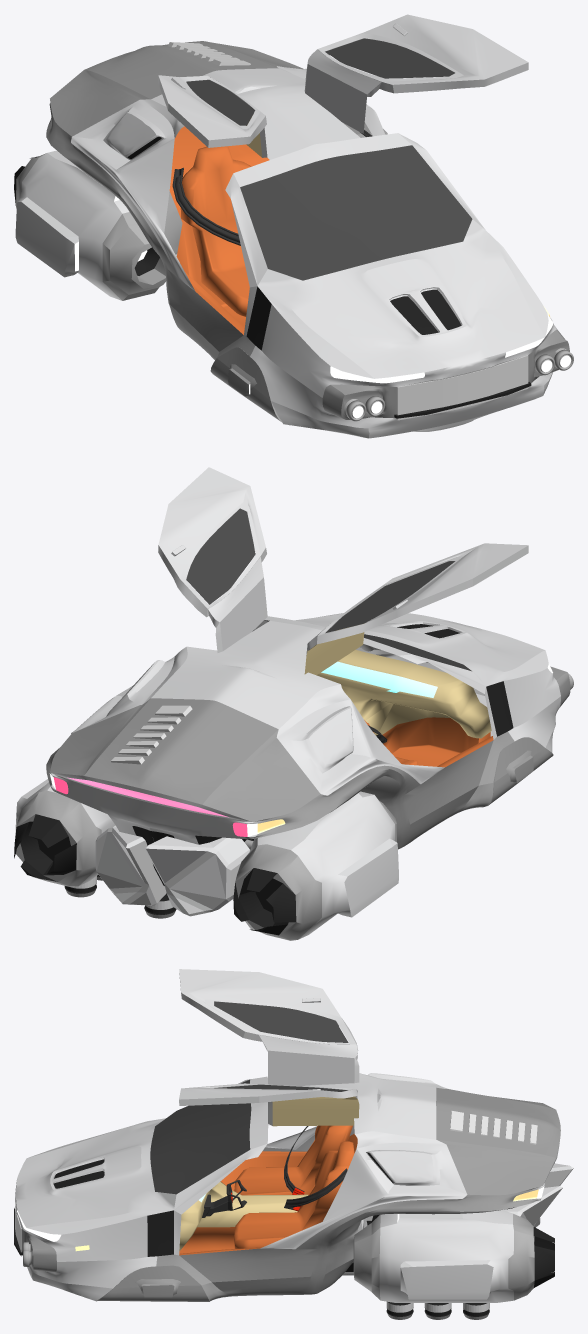
The model's file is SUV.glb.
3 views of the same model, one above another, from view 1: azimuth 30°, elevation 25°; view 2: azimuth 150°, elevation 25°; view 3: azimuth 270°, elevation 25° (orthographic). The views are drawn at different scales.
Parts seen in each view (by area): view 1: chasis, windshield, vehicle chasis-hull, right rear thruster, right door, SEATS, left door, front grill1, dashboard interior, fron thruster panels, lights front, Plane (+2 smaller); view 2: chasis, vehicle chasis-hull, right rear thruster, right door, dashboard interior, left door, left thrusters, tank 2, tank 1, Plane, fron thruster panels, windshield; view 3: chasis, vehicle chasis-hull, left thrusters, left door, SEATS, windshield, dashboard interior, right door, fron thruster panel, thrusters lower, Plane, tank 1 (+2 smaller).
Boxes of the visible parts, x1,y1,x2,y2 form: chasis: (50,66,557,438); windshield: (240,145,472,280); vehicle chasis-hull: (46,41,569,419); right rear thruster: (14,150,166,300); right door: (304,14,528,133); SEATS: (172,130,372,316); left door: (158,75,267,157); front grill1: (397,355,528,420); dashboard interior: (169,126,269,334); fron thruster panels: (210,347,289,425); lights front: (330,314,552,383); Plane: (168,42,250,65); chasis: (50,613,560,844); vehicle chasis-hull: (46,624,570,885); right rear thruster: (233,791,398,940); right door: (158,467,267,652); dashboard interior: (316,649,493,767); left door: (304,543,528,675); left thrusters: (14,779,114,887); tank 2: (144,836,249,916); tank 1: (95,824,166,905); Plane: (111,705,192,764); fron thruster panels: (482,737,553,807); windshield: (264,620,471,671); chasis: (15,1073,559,1301); vehicle chasis-hull: (16,1087,560,1301); left thrusters: (353,1210,554,1302); left door: (179,969,359,1085); SEATS: (234,1125,354,1248); windshield: (150,1079,251,1194); dashboard interior: (179,1133,357,1255); right door: (179,1083,359,1126); fron thruster panel: (97,1265,209,1301); thrusters lower: (386,1301,489,1319); Plane: (450,1111,537,1144); tank 1: (503,1186,562,1225).
Bounding box in the file's own units: 1.7 × 1.37 × 2.94.
